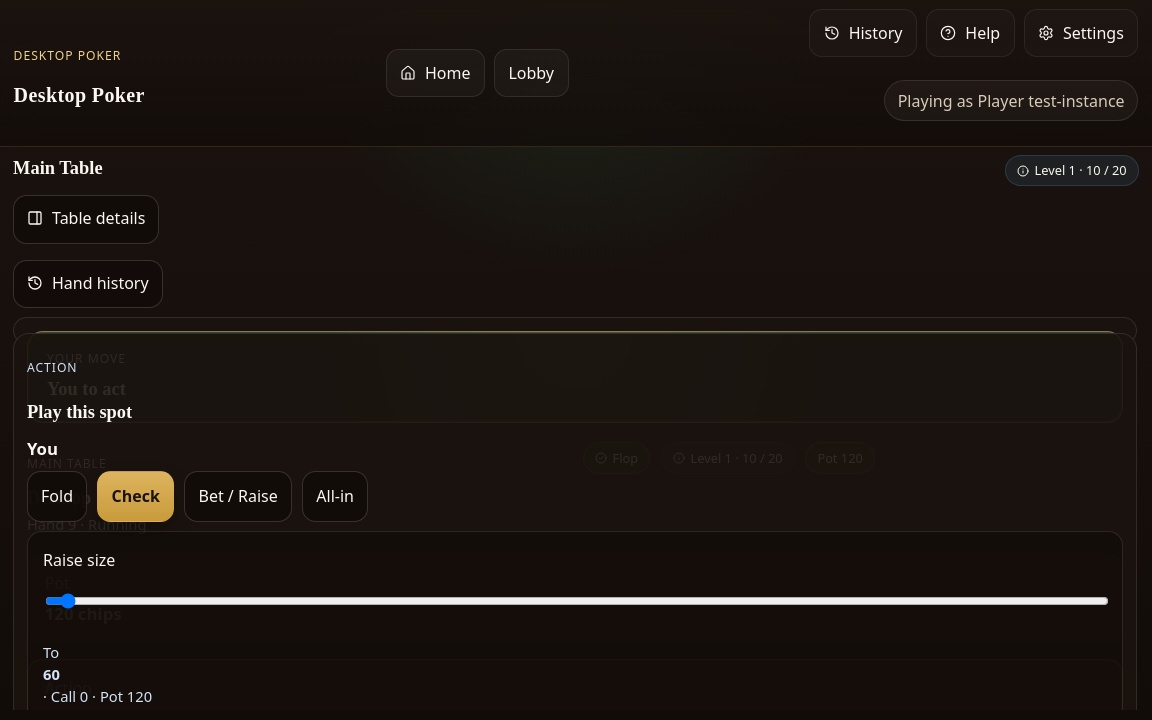
AppShell integration (table and debug) › transitions an eliminated player into observer-only state after a live table action
Expected: the heading "Main Table" is shown, [13,155,102,186]
Click the button "Fold" at (57, 496), box [27,471,87,522]
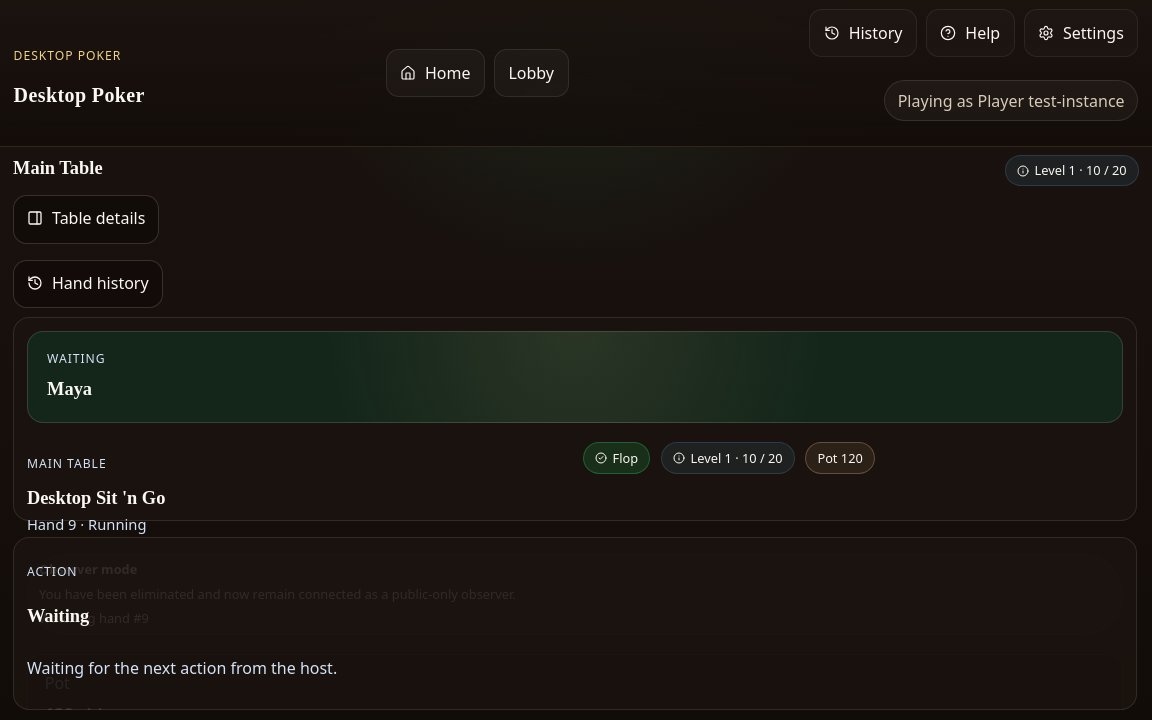
Result: the button "Fold" is gone
Click the link "Hand history" at (88, 284), box [13,260,163,308]
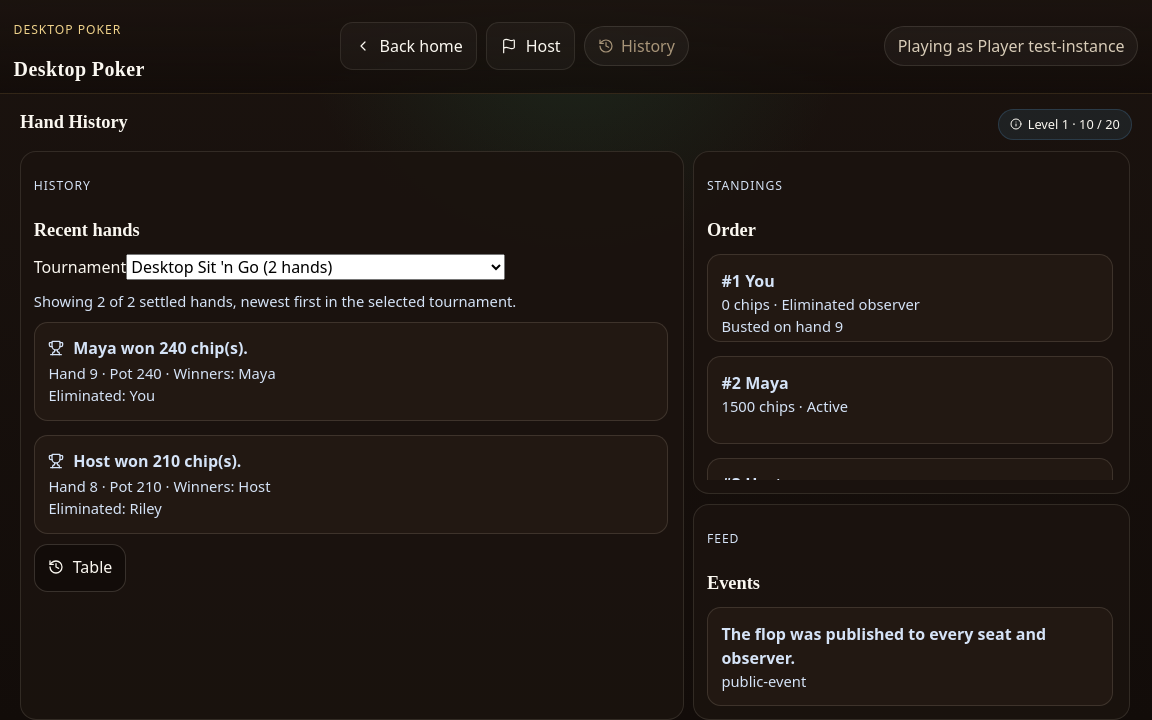
Result: the text "Maya won 240 chip(s)." is shown at [73,336,248,360]
